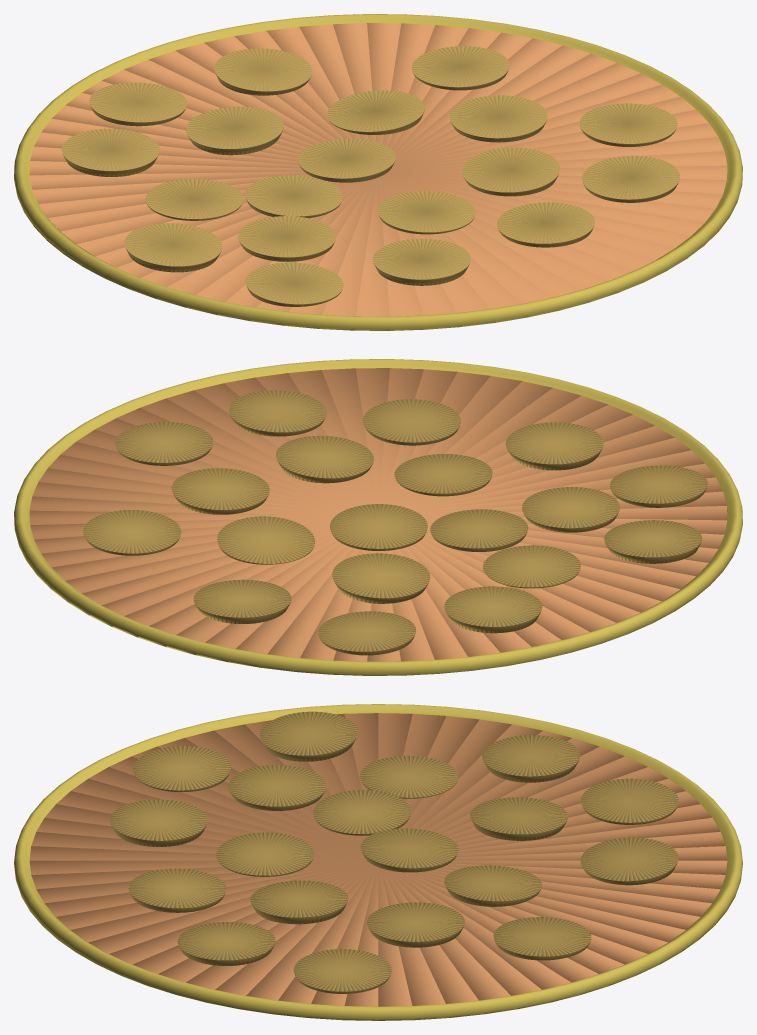
Rendered from Pizza.fbx.
3 views of the same model, one above another, from view 1: azimuth 30°, elevation 25°; view 2: azimuth 150°, elevation 25°; view 3: azimuth 270°, elevation 25° (orthographic).
Visible parts, largest first — view 1: pizza; view 2: pizza; view 3: pizza.
Boxes of the visible parts, x1,y1,x2,y2 form: pizza: [14, 14, 742, 330]; pizza: [14, 359, 742, 675]; pizza: [14, 704, 742, 1020].
Bounding box in the file's own units: 133 × 4.58 × 133.
